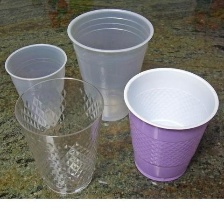glass: (120, 64, 221, 183), (11, 72, 106, 196), (62, 4, 157, 126), (1, 41, 69, 130)
